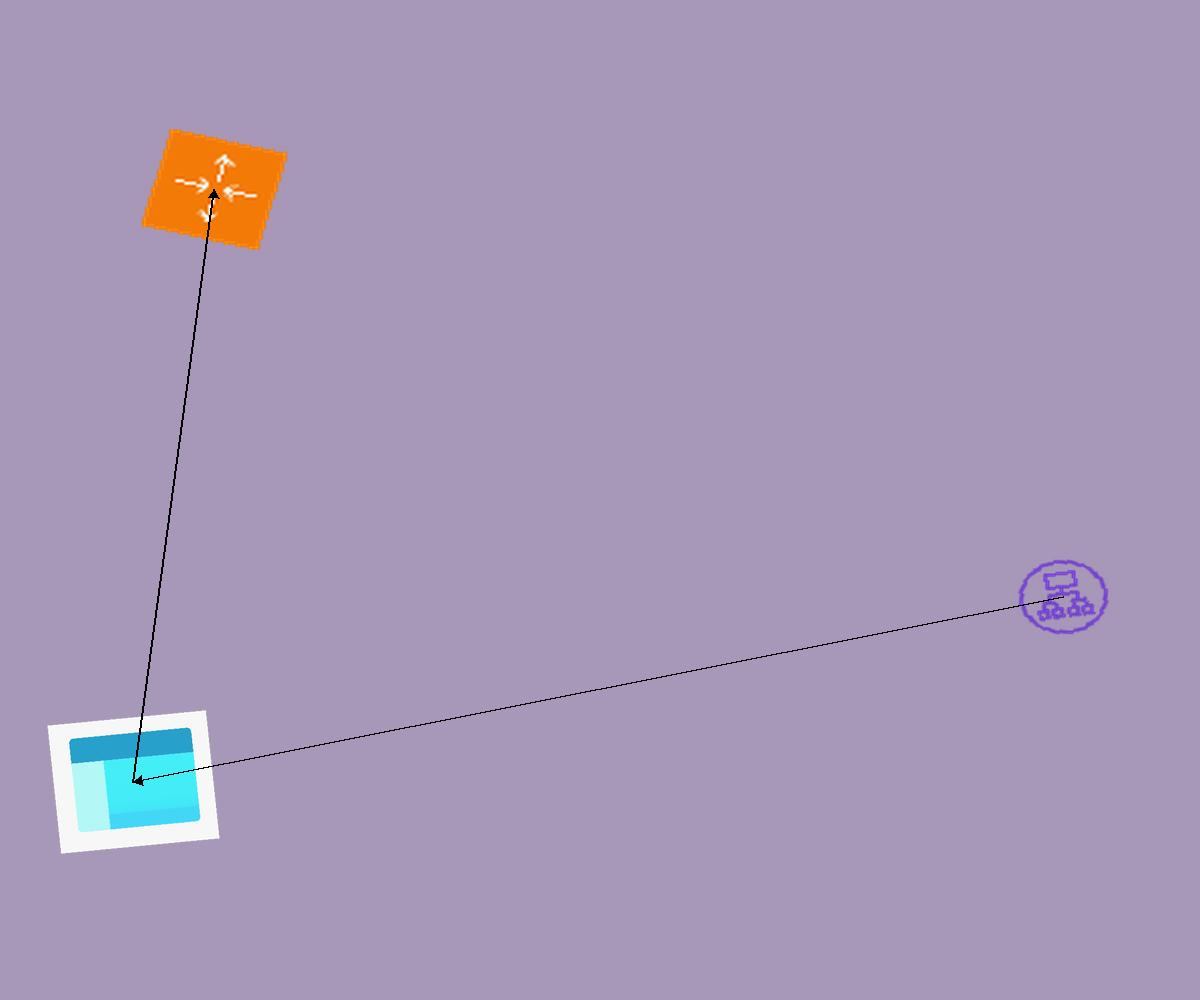AWS-Res_Elastic-Load-Balancing_Application-Load-Balancer: (1007, 550, 1120, 644)
AWS-Scaling-group: (139, 127, 290, 252)
Azure_management-portal: (47, 710, 220, 854)
